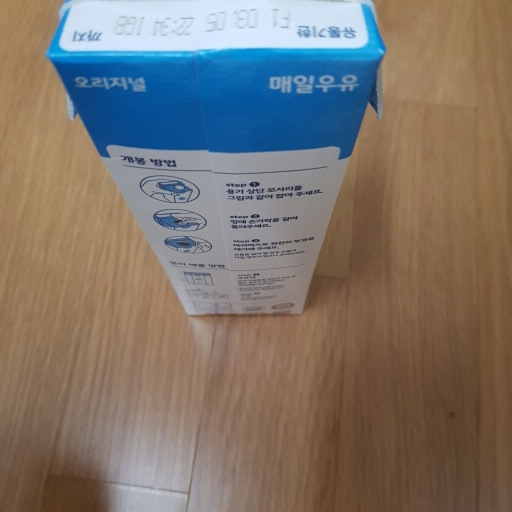Paper_0: (42, 1, 398, 323)
